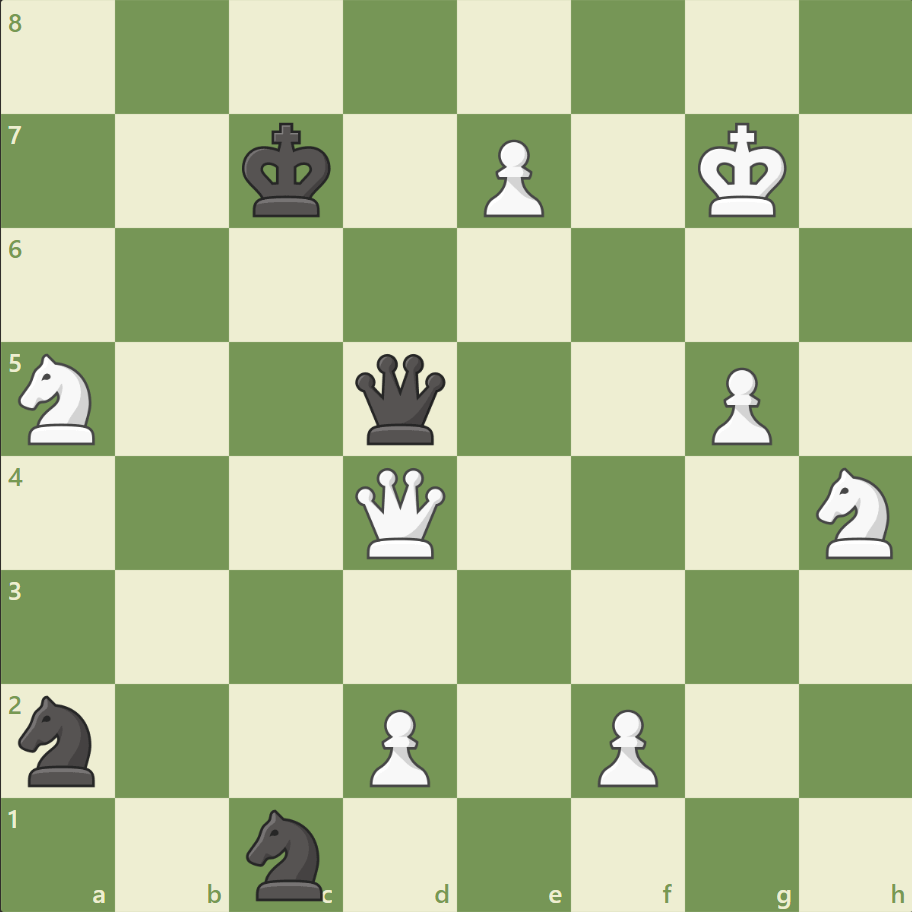K: (692, 117, 792, 225)
N: (806, 461, 903, 564), (11, 348, 108, 450)
P: (474, 132, 549, 223), (701, 359, 776, 450), (361, 700, 435, 791), (588, 700, 662, 791)
Q: (351, 463, 450, 562)
k: (238, 117, 338, 225)
n: (11, 688, 108, 791), (238, 802, 335, 904)
q: (351, 349, 450, 449)
